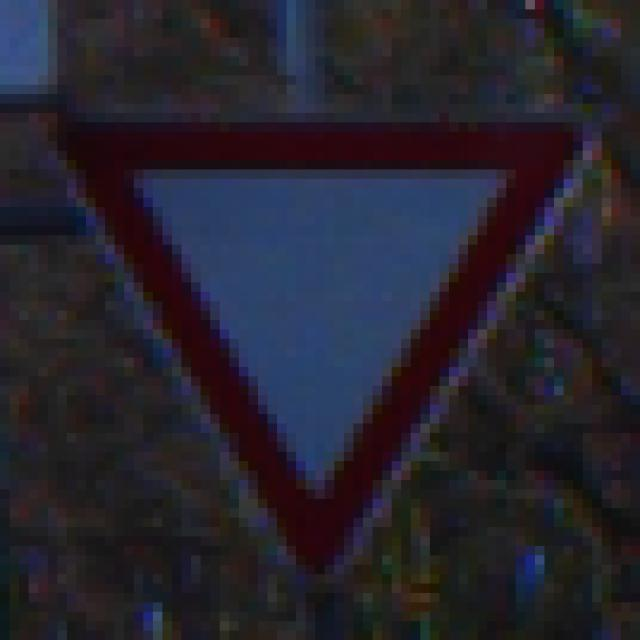Give Way: (58, 67, 584, 584)
